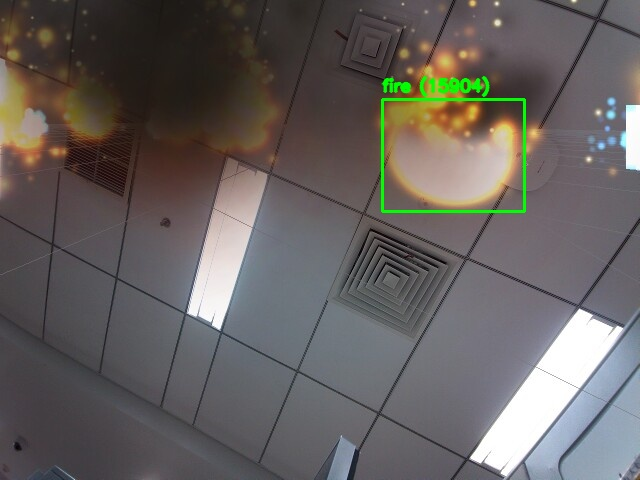fire: (382, 99, 524, 211)
